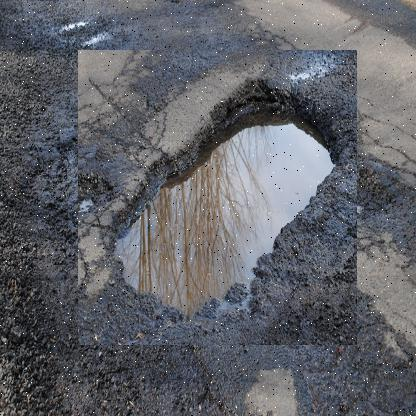pothole_water: (77, 50, 357, 346)
